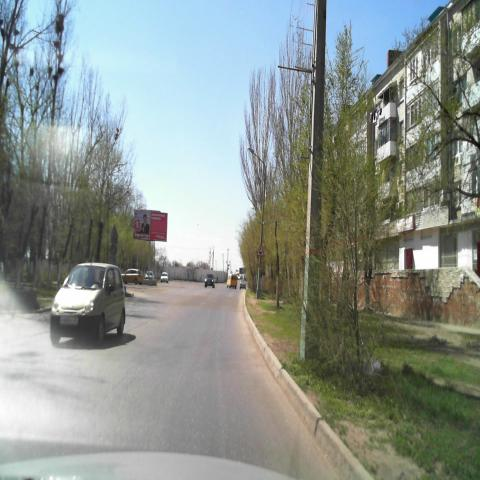1_2: (256, 244, 265, 256)
